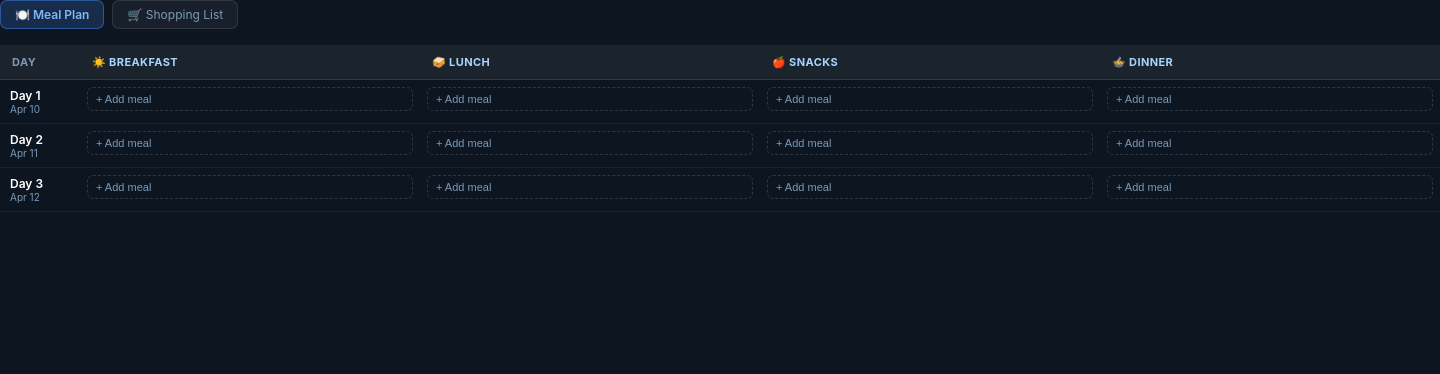
Test: MealsTab integration › clicking "+ Add meal" shows the add form
The width and height of the screenshot is (1440, 374).
What coordinates should you click on to do the following:
click the button with test id "add-meal-0-breakfast"
I would click on:
 (124, 99)
Its box is [87, 87, 413, 111].
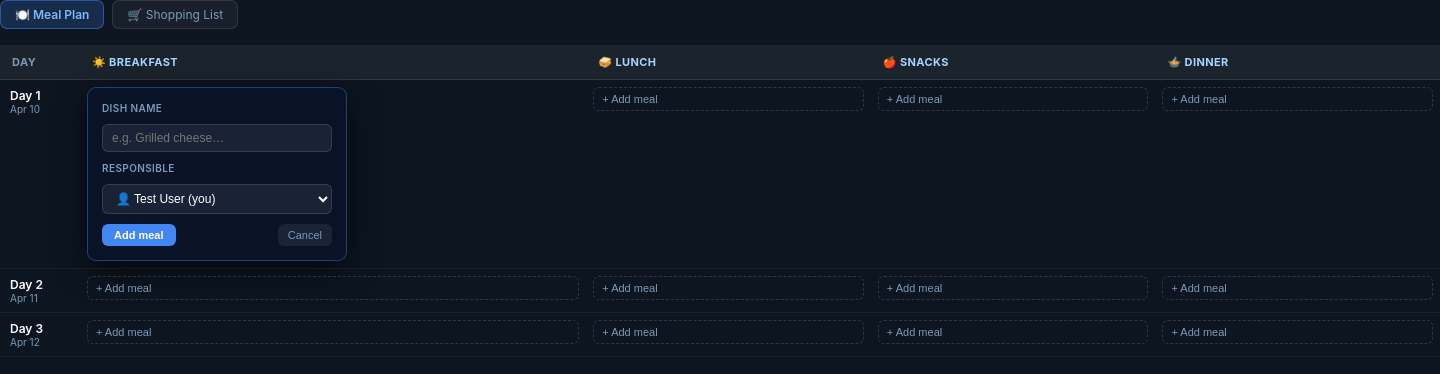
Expected: the element with test id "meal-edit-form" is shown, [87, 87, 347, 261]
